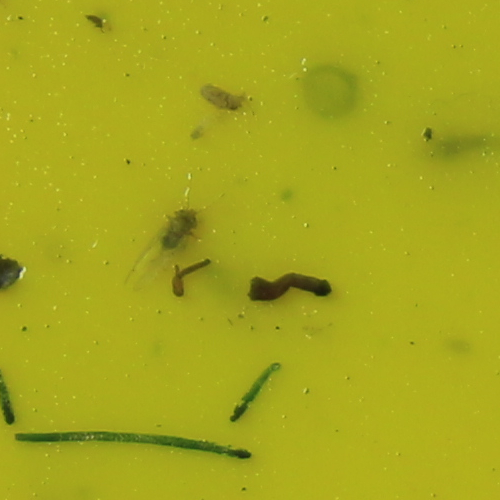Glycaspis: (157, 205, 200, 253)
